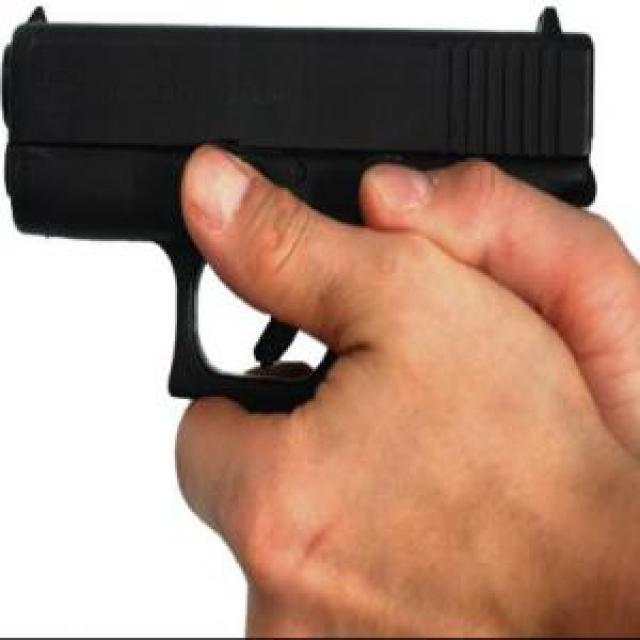pistol: (2, 4, 600, 428)
